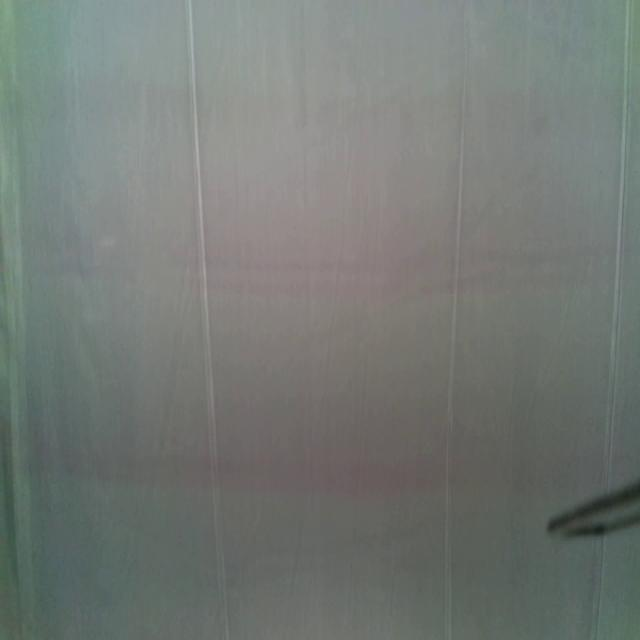color bleeding: (38, 426, 599, 506), (26, 74, 613, 148), (36, 230, 594, 295)
crease: (186, 0, 230, 640), (0, 0, 37, 640), (444, 0, 468, 640), (603, 0, 634, 485), (591, 536, 608, 639)
